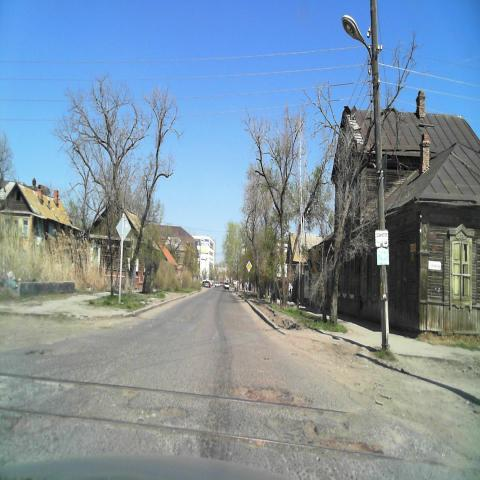2_1: (246, 260, 252, 272)
